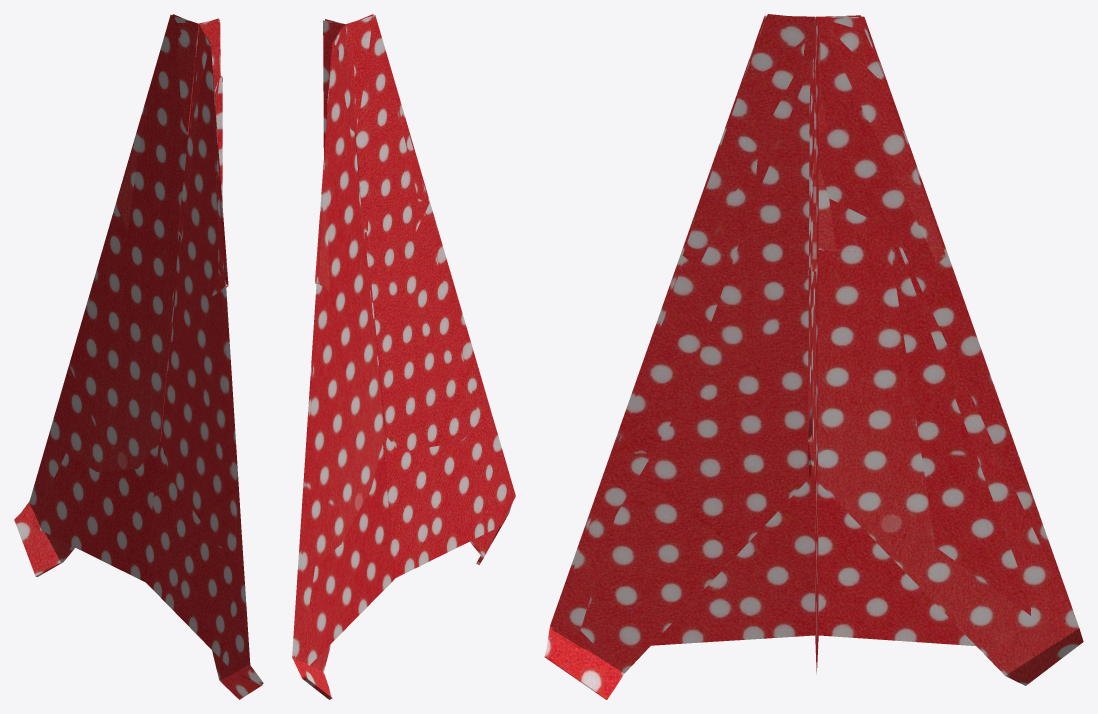
3 views of the same model, side by side, from view 1: azimuth 30°, elevation 25°; view 2: azimuth 150°, elevation 25°; view 3: azimuth 270°, elevation 25° (orthographic). The views are drawn at different scales.
Parts seen in each view (by area): view 1: Origami_Model_93.001; view 2: Origami_Model_93.001; view 3: Origami_Model_93.001.
Part boxes in pixels (box(x1,y1,x2,y2)): Origami_Model_93.001: box(14, 14, 263, 699); Origami_Model_93.001: box(292, 14, 515, 699); Origami_Model_93.001: box(544, 14, 1083, 699).
Bounding box in the file's own units: 0.0298 × 0.1763 × 0.1209.
1 material, 1 textured.
